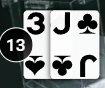3: (24, 9, 49, 37)
j: (50, 11, 75, 38)
